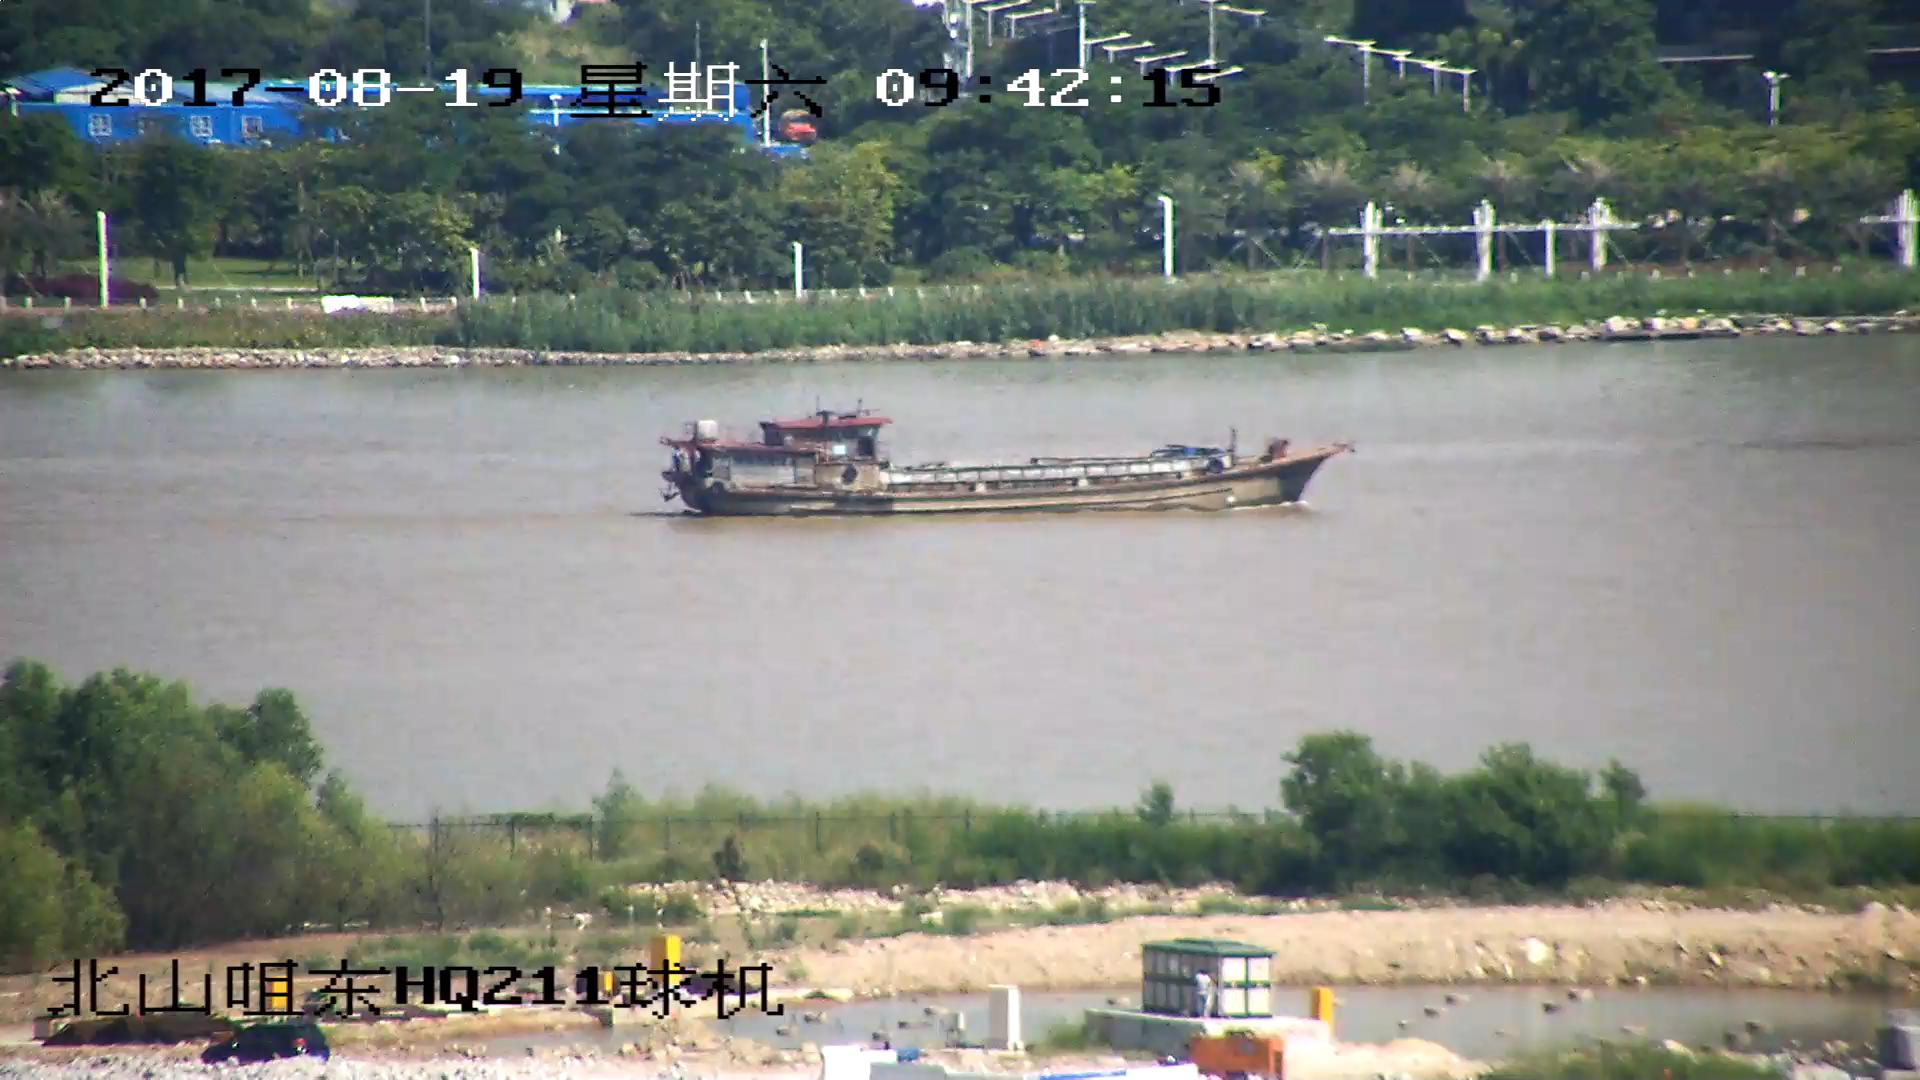fishing boat: (655, 414, 1348, 514)
